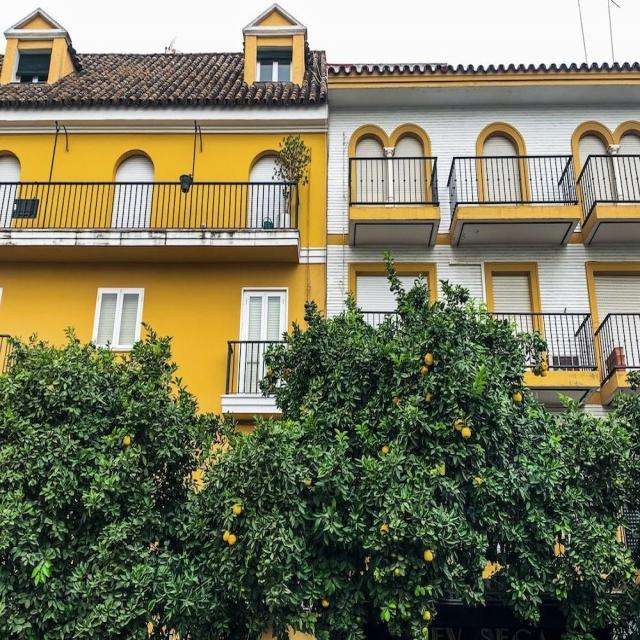Jeruk Belum Matang: (422, 610, 430, 620), (394, 569, 402, 577), (423, 627, 428, 635)
Jeruk Sudah Matang: (455, 417, 466, 432), (228, 533, 237, 546), (426, 353, 434, 366), (514, 391, 523, 402), (234, 502, 242, 514), (123, 435, 132, 445), (381, 444, 390, 454), (233, 503, 242, 513), (425, 551, 434, 561), (223, 531, 230, 542), (228, 535, 236, 544), (382, 525, 388, 537), (541, 360, 548, 370), (266, 368, 274, 376), (223, 530, 229, 540), (394, 396, 401, 404), (284, 368, 291, 376), (541, 370, 548, 378), (421, 367, 427, 374), (305, 478, 310, 486), (426, 393, 430, 402)
